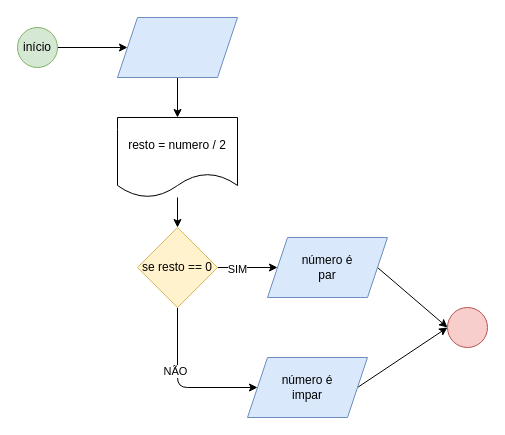
Some shapes in this 505 by 435 pixel diagram are drawn without their labels. The centre of each missing label's shape, as x and y in pixels:
FIM: [467,327]
informe um número: [177,47]
